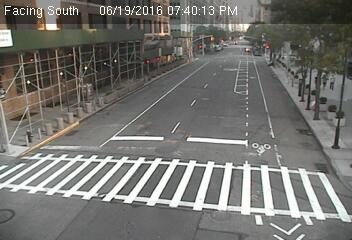neg: (210, 124, 246, 171), (101, 148, 130, 187), (38, 139, 67, 177), (238, 187, 264, 222), (168, 110, 194, 144), (46, 82, 71, 115), (199, 42, 221, 71), (87, 86, 108, 113), (295, 181, 313, 206), (151, 178, 168, 201), (265, 144, 282, 166), (120, 63, 136, 84), (238, 70, 253, 90), (302, 80, 316, 100)
